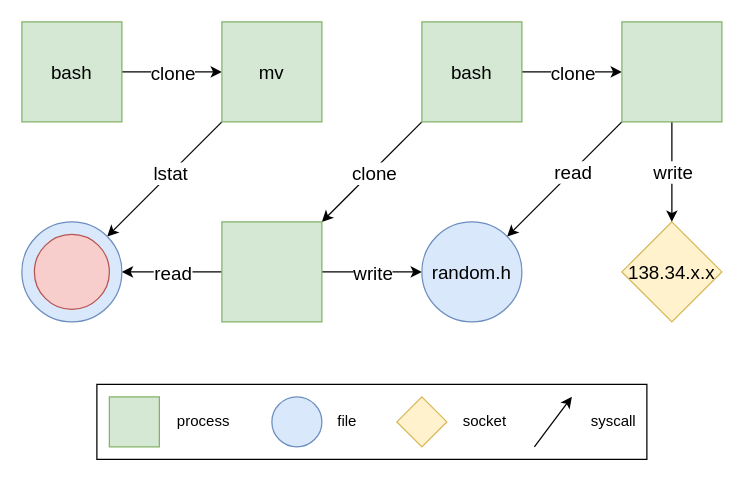
Some shapes in this 744 by 481 pixel diagram are drawn without their labels. Each missing label, with the centre of its shape:
cp: the point at 271,271
curl: the point at 671,71
pw.txt: the point at 71,271
